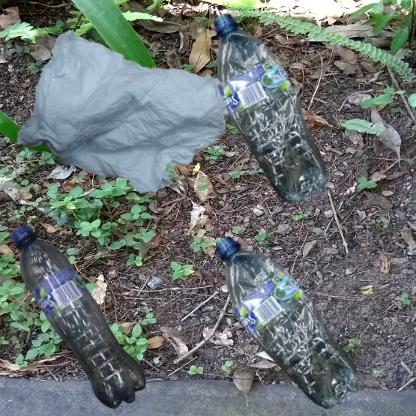botella: (213, 213, 382, 416), (10, 213, 155, 416), (213, 10, 330, 209)
papel: (10, 10, 281, 250)
